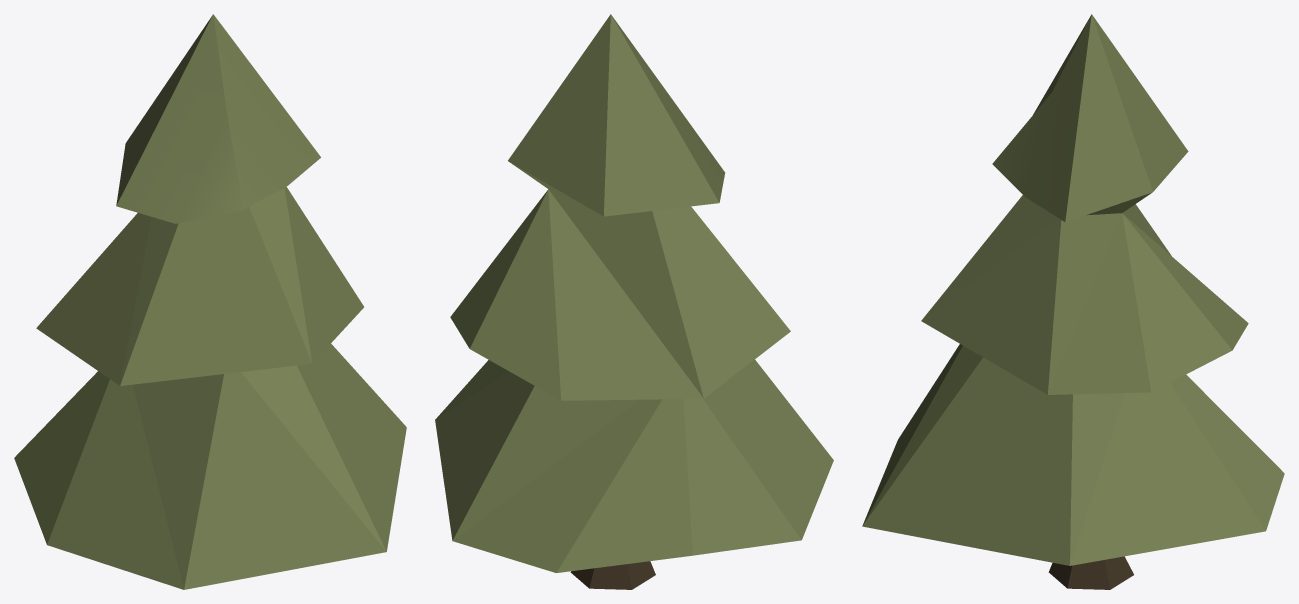
The model's file is Tree01.fbx.
3 views of the same model, side by side, from view 1: azimuth 30°, elevation 25°; view 2: azimuth 150°, elevation 25°; view 3: azimuth 270°, elevation 25° (orthographic). The views are drawn at different scales.
Parts seen in each view (by area): view 1: pCylinder12; view 2: pCylinder12; view 3: pCylinder12.
Part boxes in pixels (x1,y1,x2,y2): pCylinder12: [14, 14, 406, 589]; pCylinder12: [435, 14, 833, 589]; pCylinder12: [862, 14, 1284, 589].
Bounding box in the file's own units: 316 × 461 × 315.
